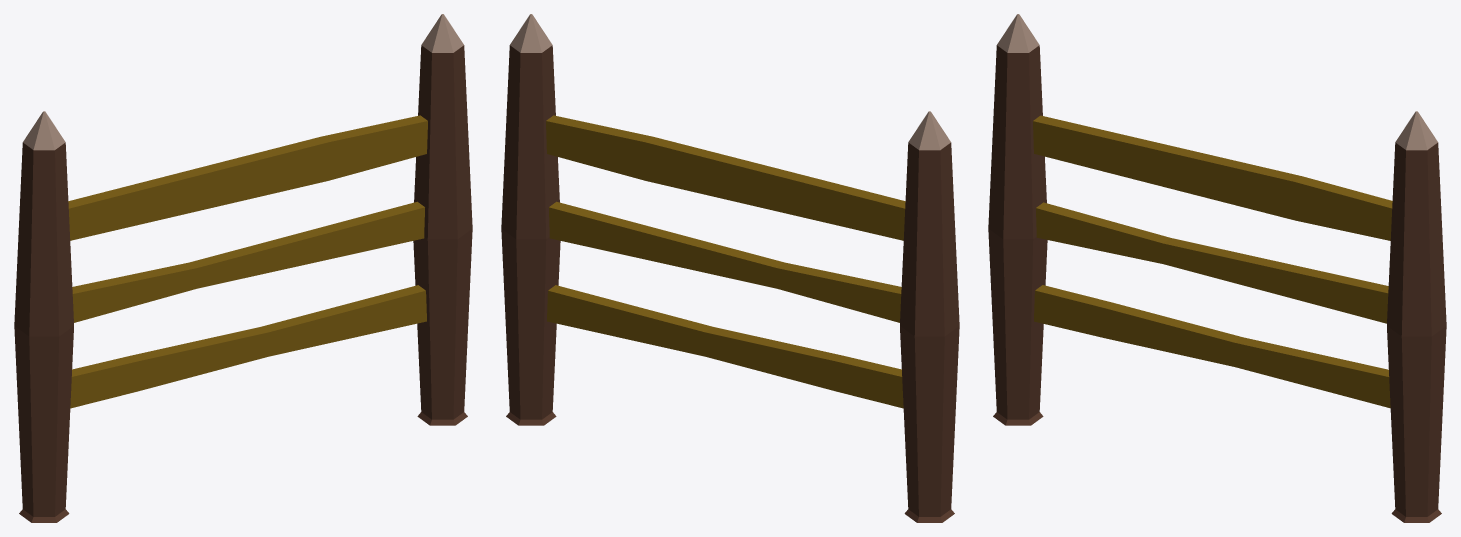
File: fence2.fbx
The picture shows the model from 3 angles, left to right: view 1: azimuth 30°, elevation 25°; view 2: azimuth 150°, elevation 25°; view 3: azimuth 330°, elevation 25°; orthographic projection.
Visible parts, largest first — view 1: Cube; view 2: Cube; view 3: Cube.
Boxes of the visible parts, left/top/right/bottom form: Cube: left=14, top=14, right=472, bottom=522; Cube: left=501, top=14, right=959, bottom=522; Cube: left=988, top=14, right=1446, bottom=522.
Size of the model in its own units: 46.36 by 40.17 by 5.42.
